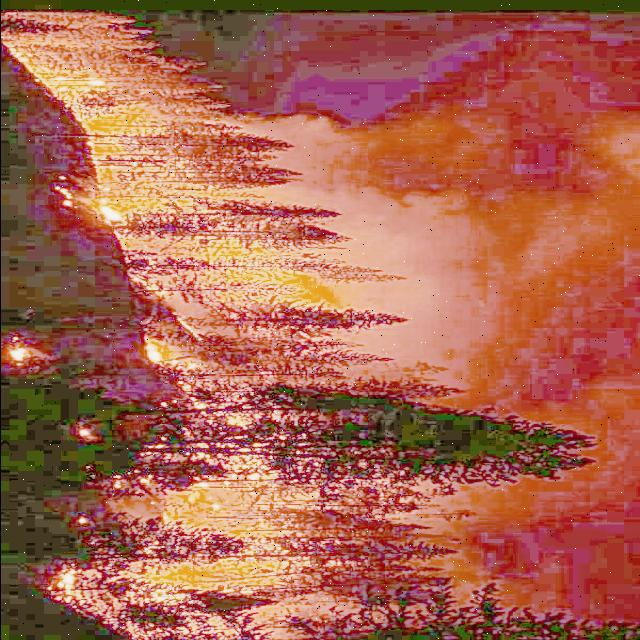api: (56, 485, 302, 632), (47, 59, 101, 95), (103, 202, 170, 223)
asap: (401, 117, 640, 413), (440, 483, 636, 621), (291, 114, 385, 204), (335, 214, 391, 267)
